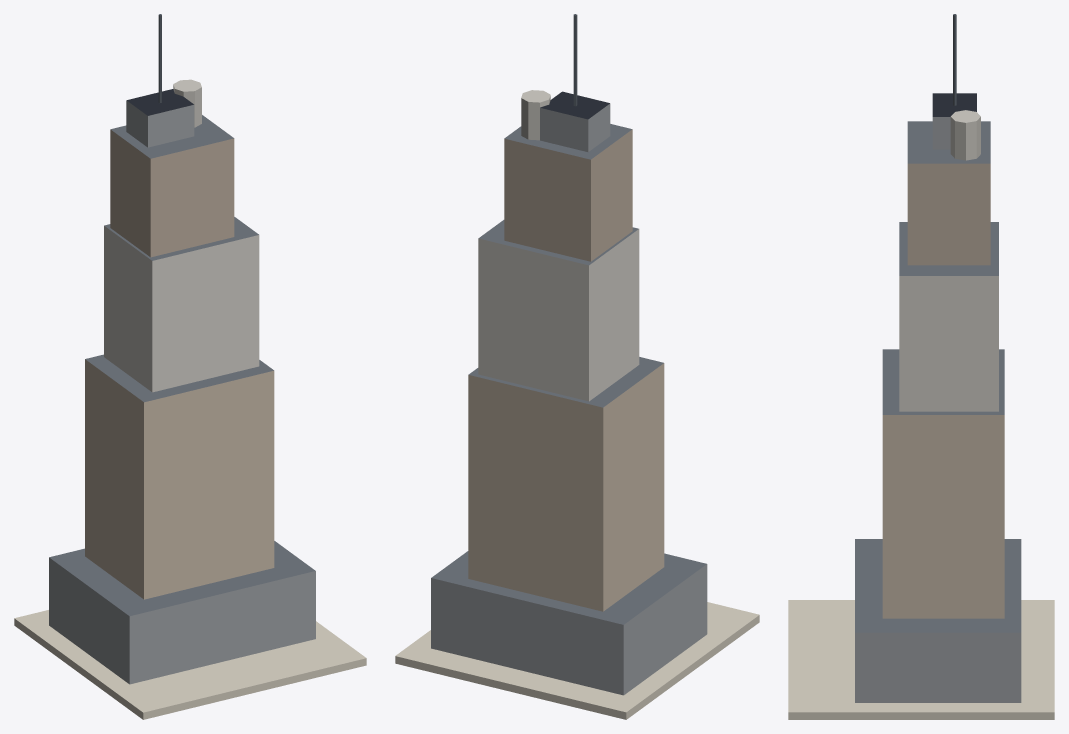
3 views of the same model, side by side, from view 1: azimuth 30°, elevation 25°; view 2: azimuth 150°, elevation 25°; view 3: azimuth 270°, elevation 25° (orthographic). The views are drawn at different scales.
Visible parts, largest first — view 1: b10_v2_lod2; view 2: b10_v2_lod2; view 3: b10_v2_lod2.
Boxes of the visible parts, x1,y1,x2,y2 form: b10_v2_lod2: [14, 14, 366, 719]; b10_v2_lod2: [395, 14, 759, 719]; b10_v2_lod2: [788, 14, 1054, 719].
Bounding box in the file's own units: 0.96 × 2.56 × 0.96.
